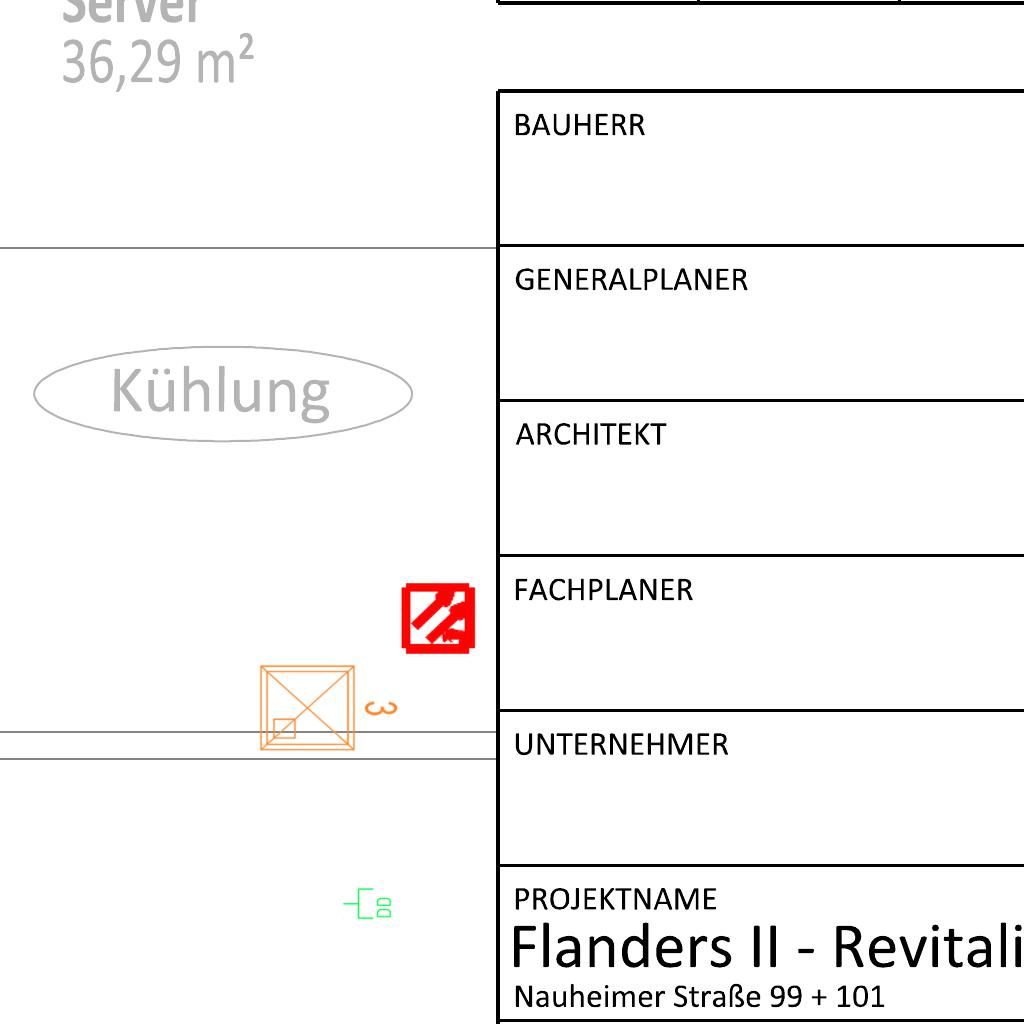Datenanschluss_zweifach: (342, 887, 393, 921)
Einbaudownlights_LED_Konferenzraeume: (253, 654, 403, 758)
OT_Multisensormelder_(Kombination_RMO_WMD): (384, 562, 497, 675)
